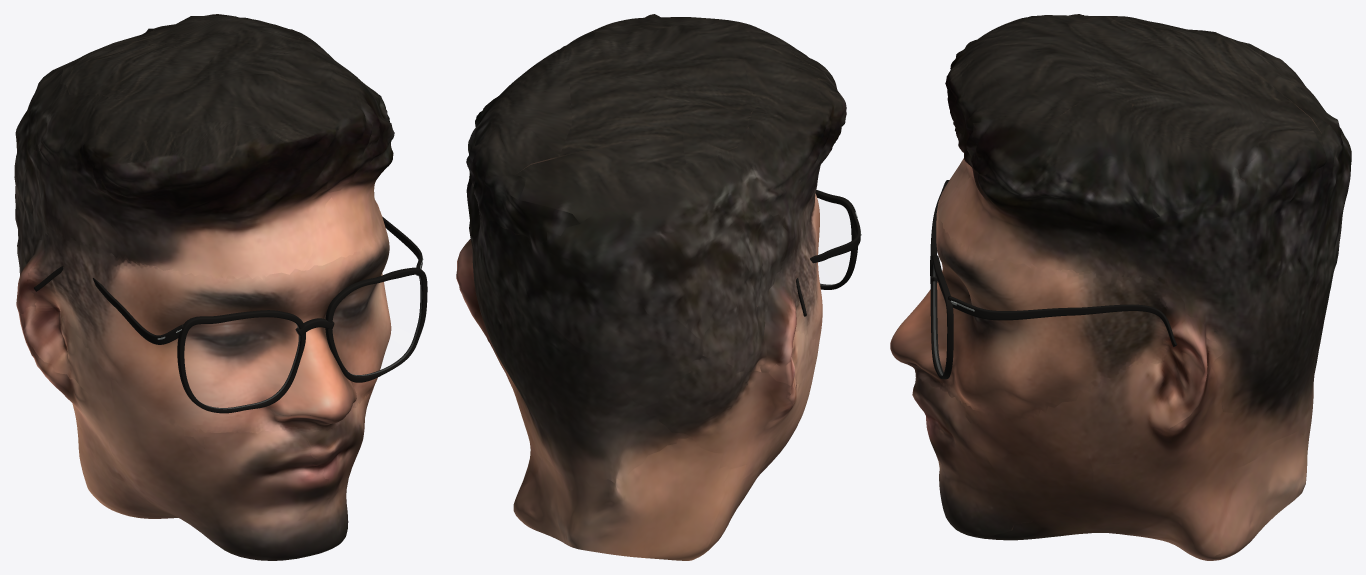
3 views of the same model, side by side, from view 1: azimuth 30°, elevation 25°; view 2: azimuth 150°, elevation 25°; view 3: azimuth 270°, elevation 25° (orthographic). The views are drawn at different scales.
Parts seen in each view (by area): view 1: world, Eyeglass rim 1, Eyeglass rim 2, Eyeglass temple 1; view 2: world, Eyeglass rim 1, Eyeglass temple 1; view 3: world, Eyeglass temple 2, Eyeglass rim 2.
Boxes of the visible parts, x1,y1,x2,y2 form: world: (14,14,394,560); Eyeglass rim 1: (177,310,305,413); Eyeglass rim 2: (325,267,427,382); Eyeglass temple 1: (34,266,183,344); world: (456,14,846,560); Eyeglass rim 1: (815,190,857,289); Eyeglass temple 1: (796,208,860,316); world: (890,14,1351,560); Eyeglass temple 2: (948,296,1177,346); Eyeglass rim 2: (930,255,953,379).
Bounding box in the file's own units: 0.2263 × 0.3059 × 0.2644.
6 materials, 1 textured.
